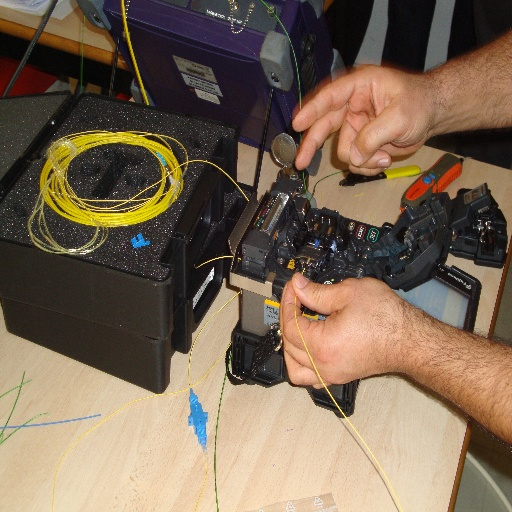hand: (275, 56, 509, 165), (277, 271, 402, 388)
